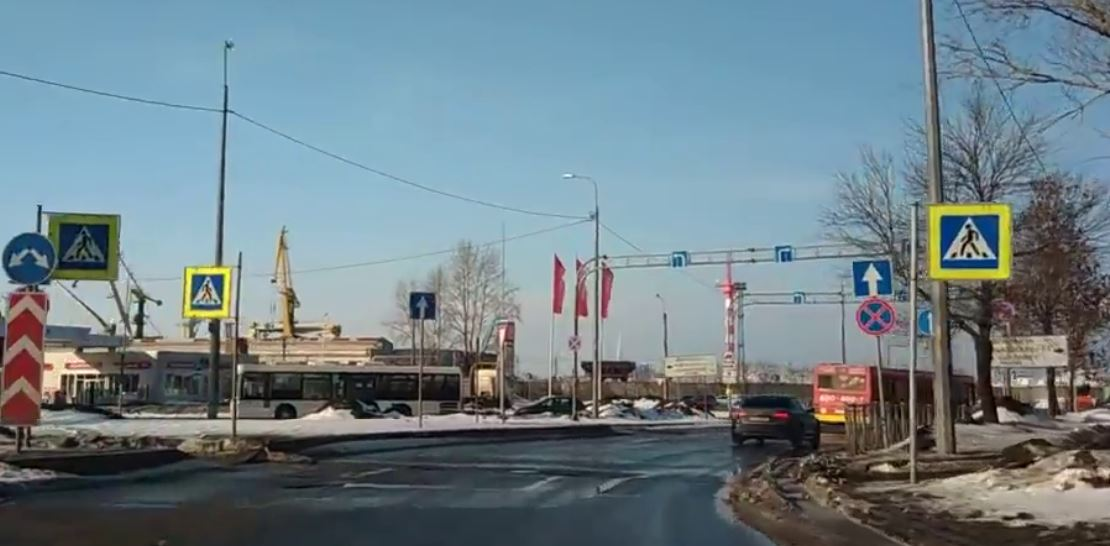Yaya Gecidi: (943, 214, 1001, 271), (59, 225, 109, 272), (188, 272, 224, 308)
